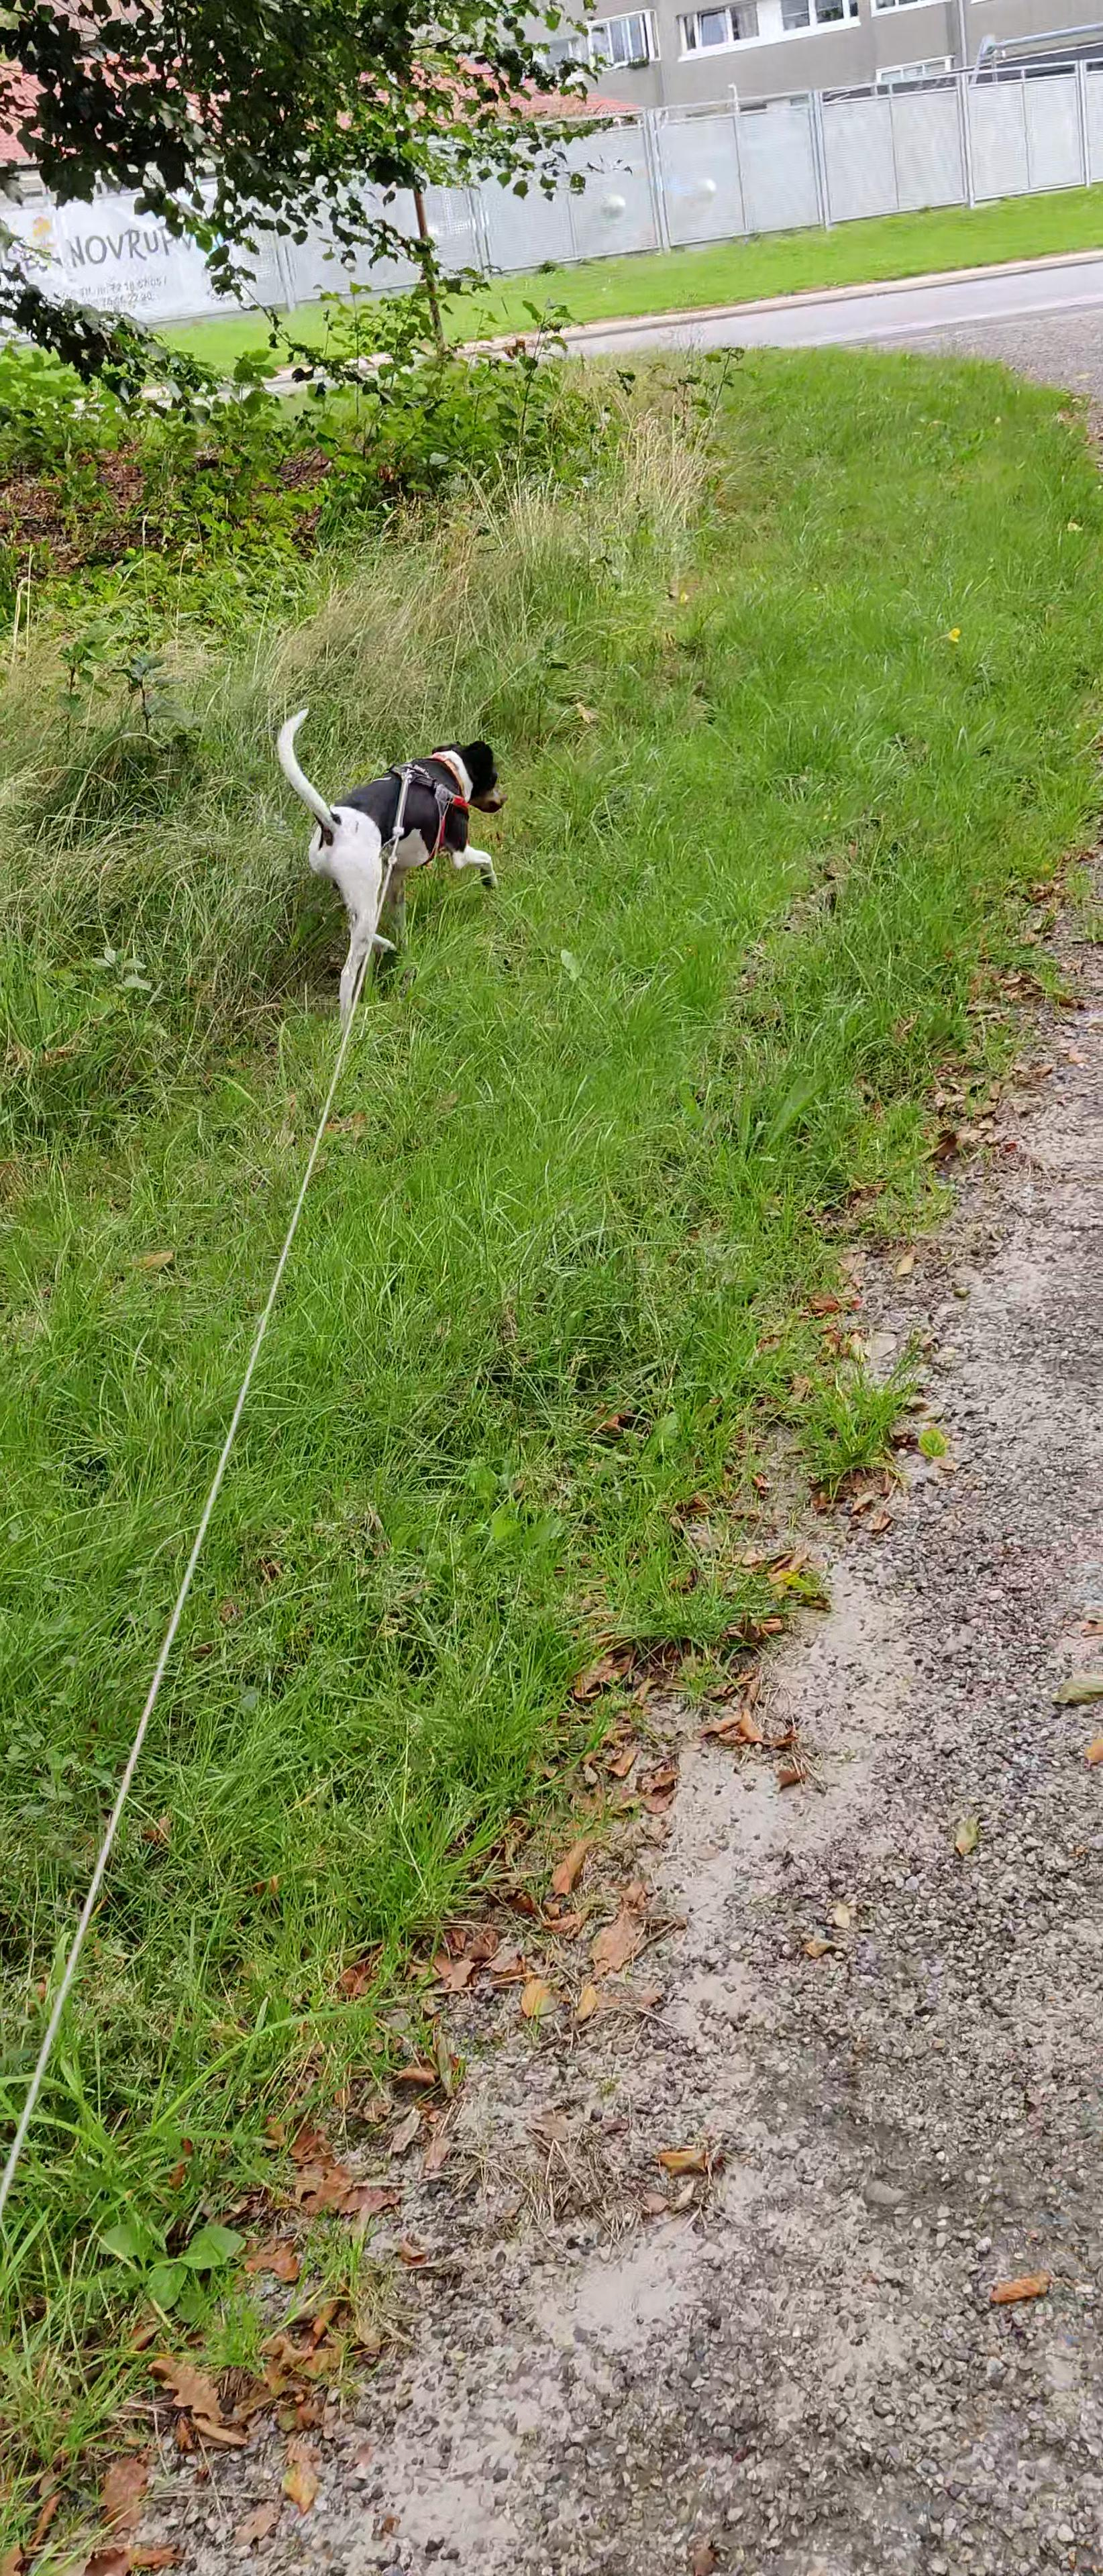Dog: (270, 705, 511, 1004)
